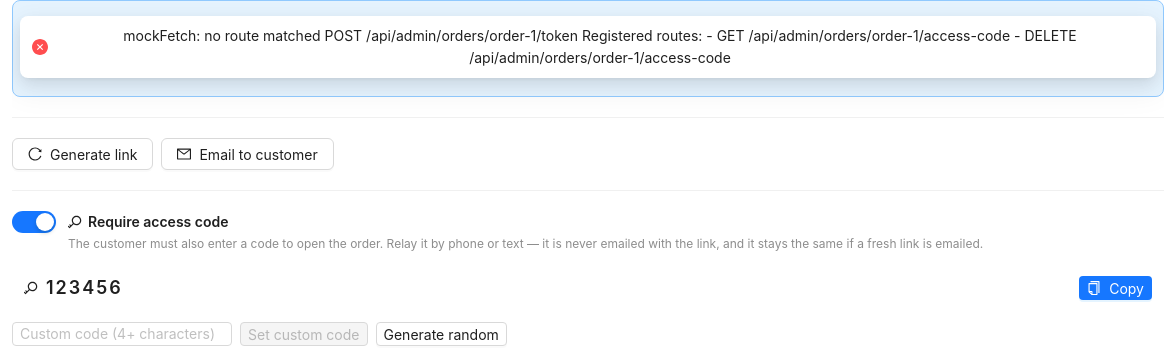
Test: ShareLinkPanel › disabling the access code DELETEs and clears the code state
Click the switch. click: (34, 222)
box: [12, 211, 56, 233]
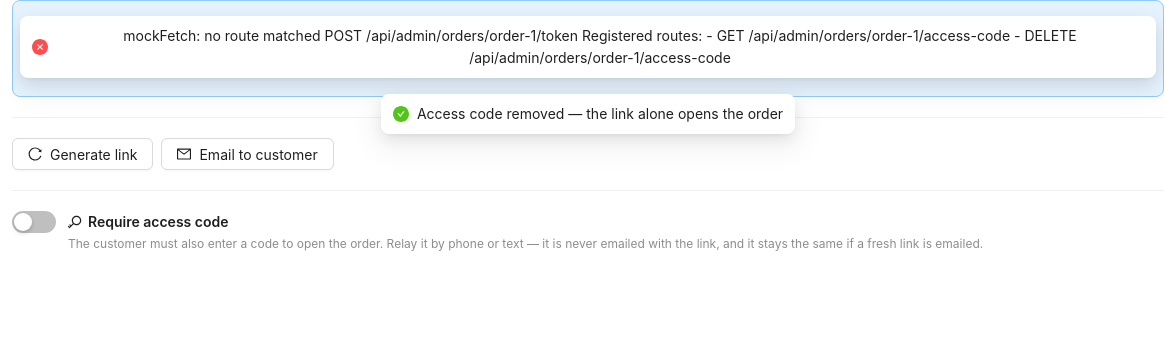
Check: the text "Access code removed — the link alone opens the order" is shown, box [417, 103, 783, 125]
